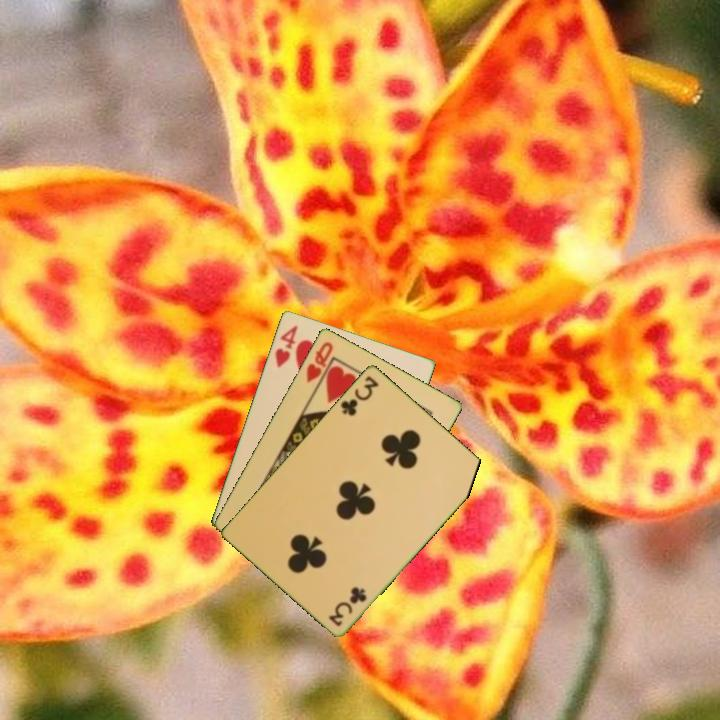3c: (337, 372, 382, 419), (326, 583, 370, 629)
4h: (271, 321, 300, 370)
Qh: (302, 338, 336, 392)
